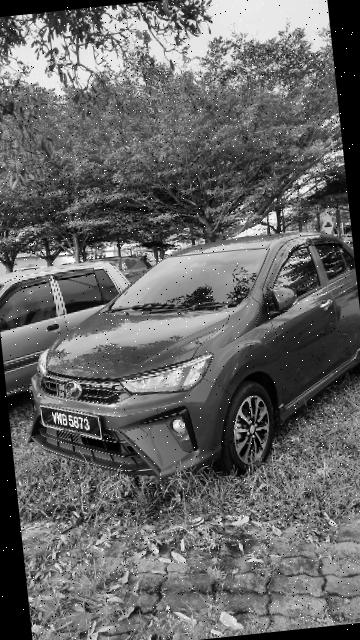License_Plate: (37, 397, 112, 450)
car: (5, 222, 360, 497)
